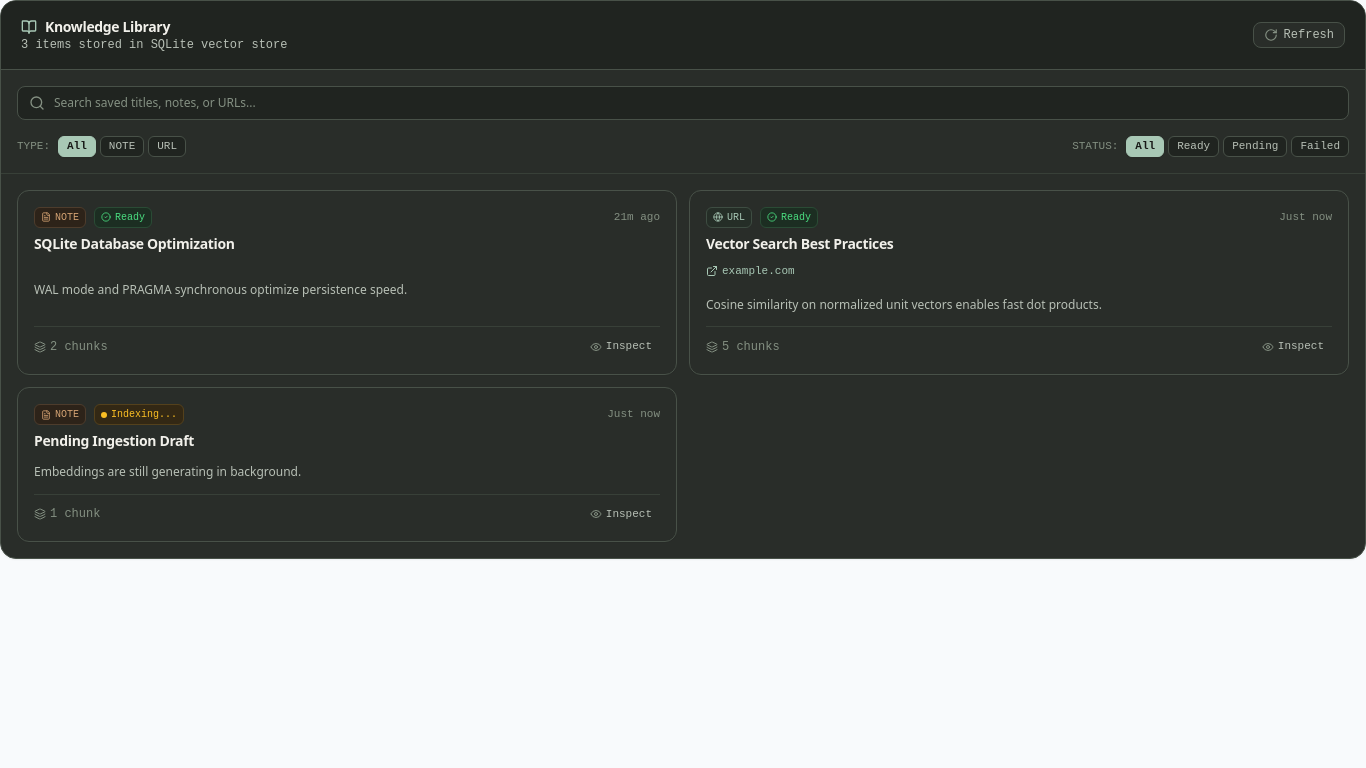
Test: KnowledgeLibrary Filtering and Search › filters items by indexing status (Pending only)
Click the button "Pending" at (1255, 146), box [1223, 136, 1287, 157]
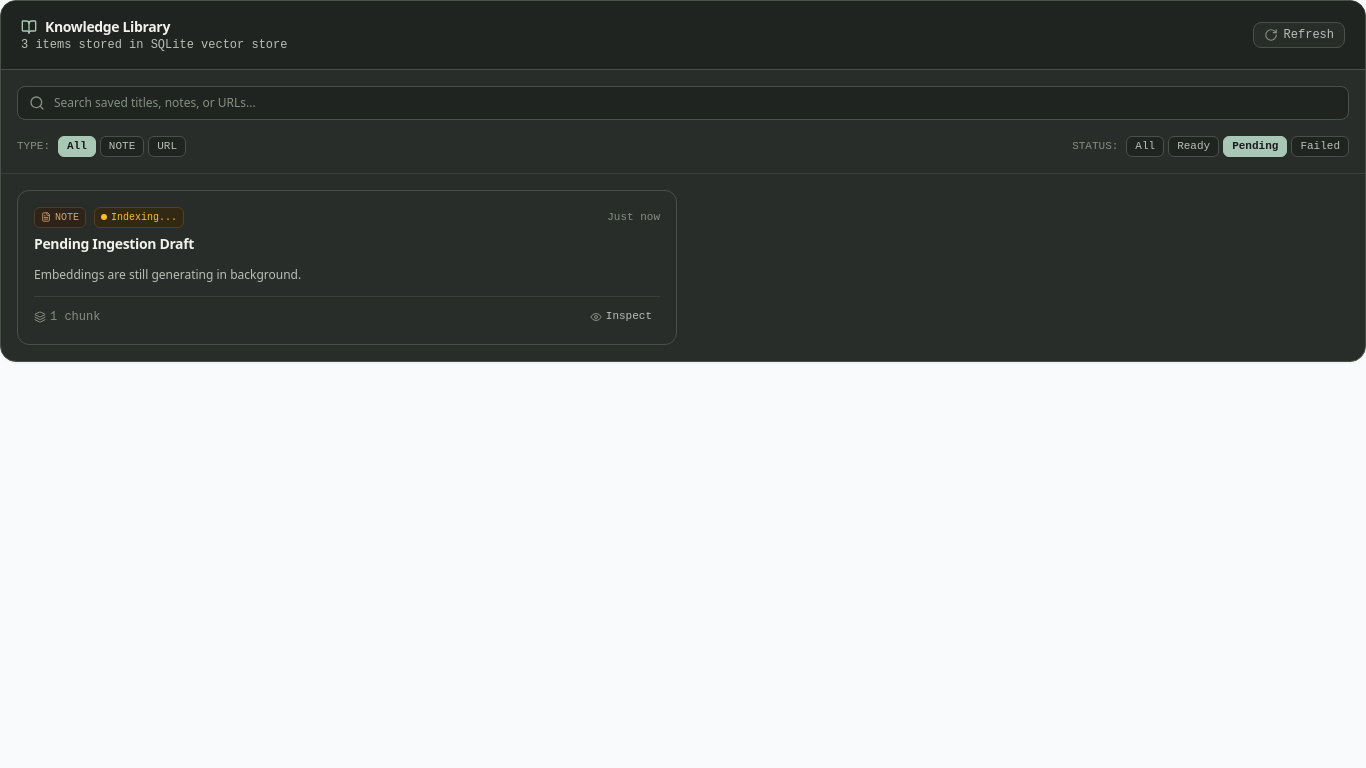
Expected: the heading "Pending Ingestion Draft" is shown, [34, 234, 194, 253]
Result: the heading "SQLite Database Optimization" is gone
Result: the heading "Vector Search Best Practices" is gone
